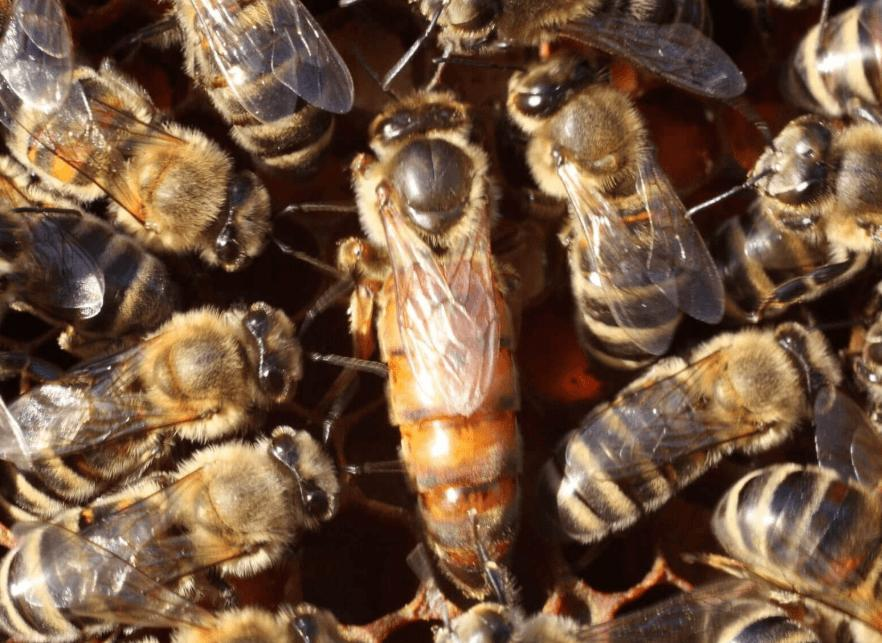Queen-Bee: (338, 91, 521, 596)
worker-bee: (0, 426, 338, 642), (507, 52, 724, 367), (537, 322, 841, 543), (0, 302, 302, 518), (0, 63, 270, 271), (174, 0, 353, 168), (706, 464, 881, 633), (271, 490, 273, 492)
